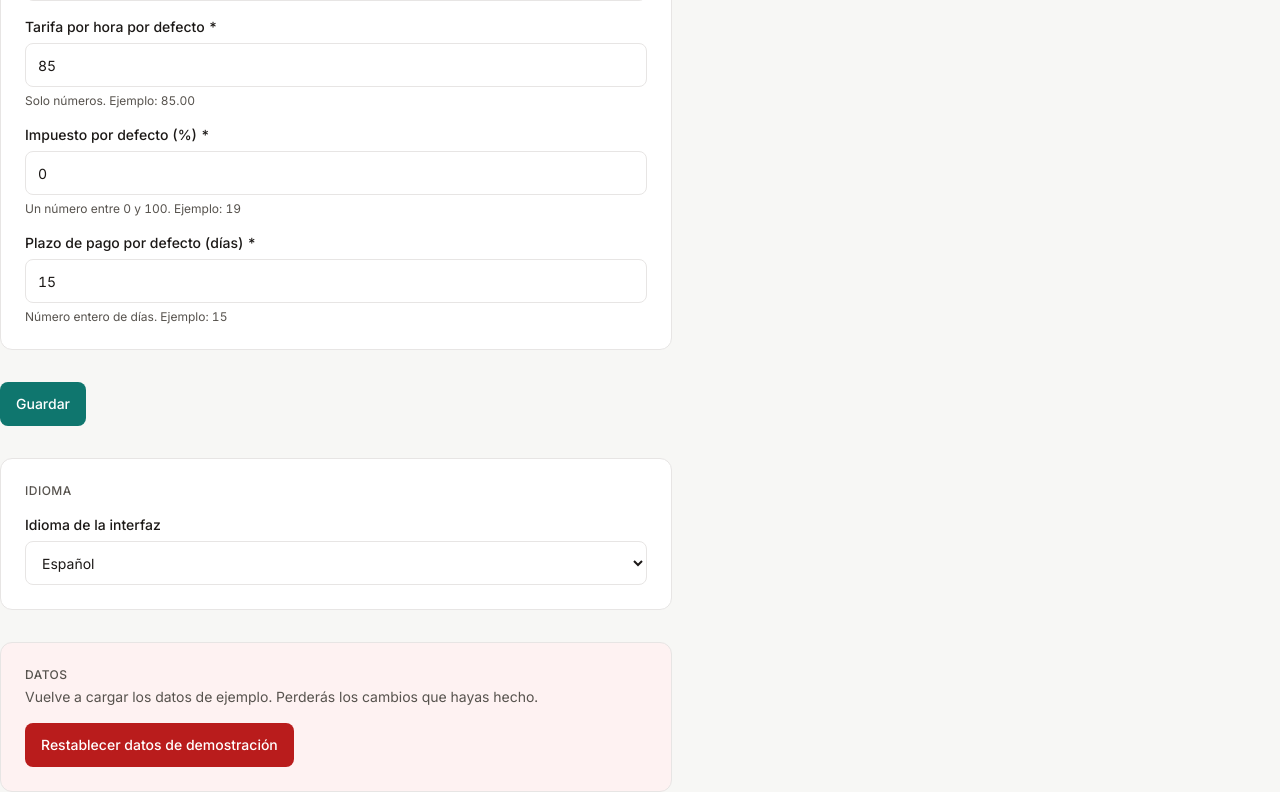
Scenario: Configuración › asks for confirmation before resetting demo data
(page scrolled)
Click the button "Restablecer datos de demostración": (159,745) [25,723,294,767]
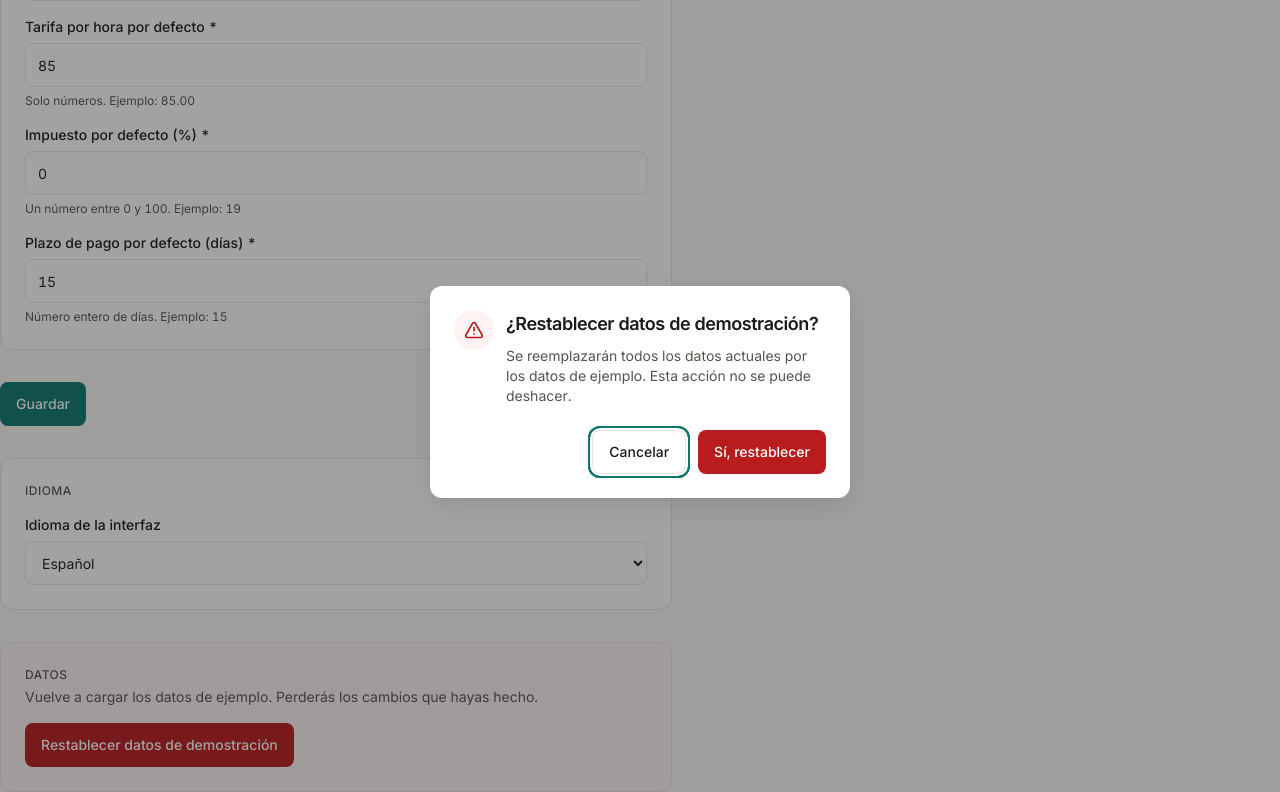
Click the button "Sí, restablecer": (762,452) [698,430,826,474]
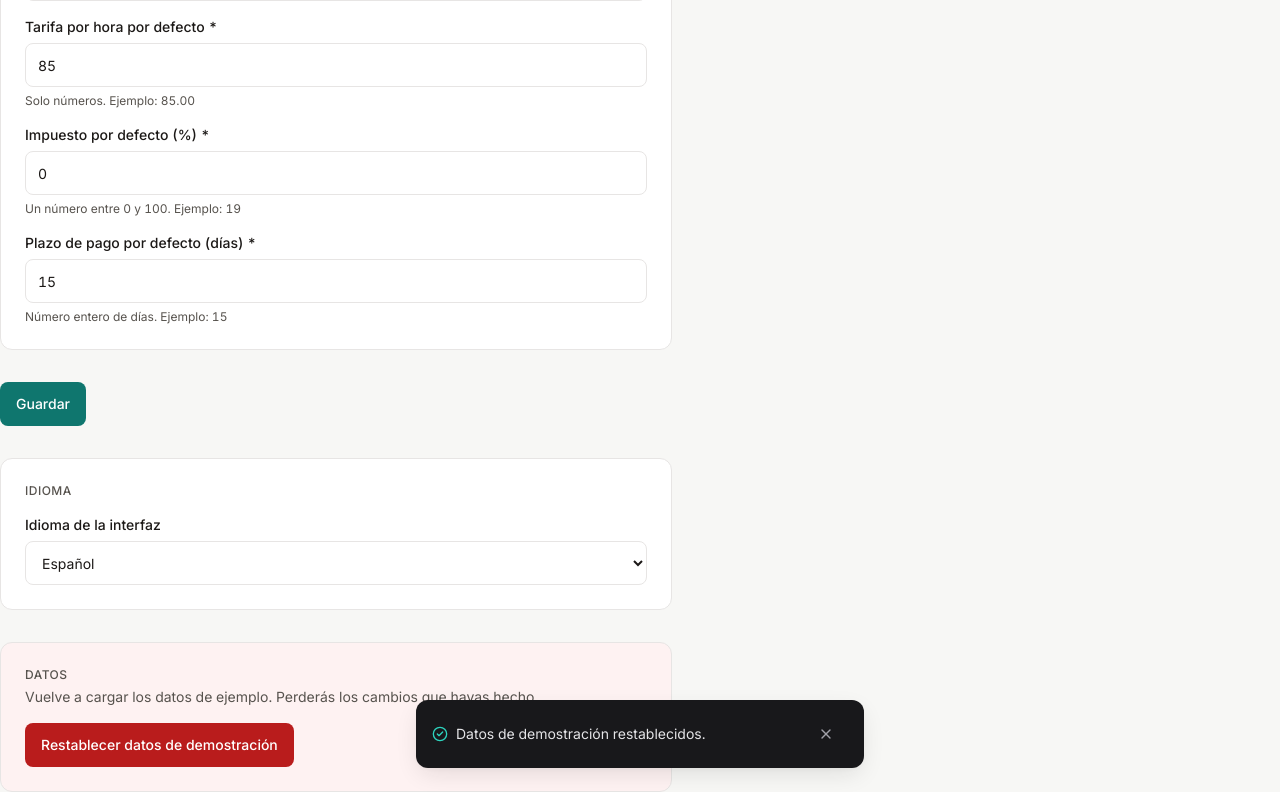
Result: the text "Datos de demostración restablecidos." is shown at [432,724,706,744]
